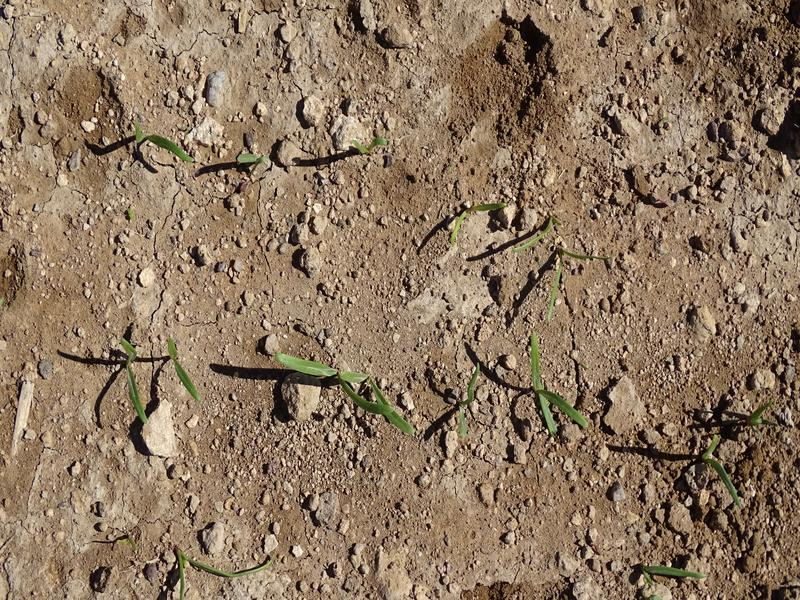Espinaca: (279, 353, 419, 438), (522, 330, 587, 437), (165, 542, 274, 597), (692, 436, 745, 513), (124, 118, 197, 172), (160, 338, 204, 406), (117, 342, 152, 424)
